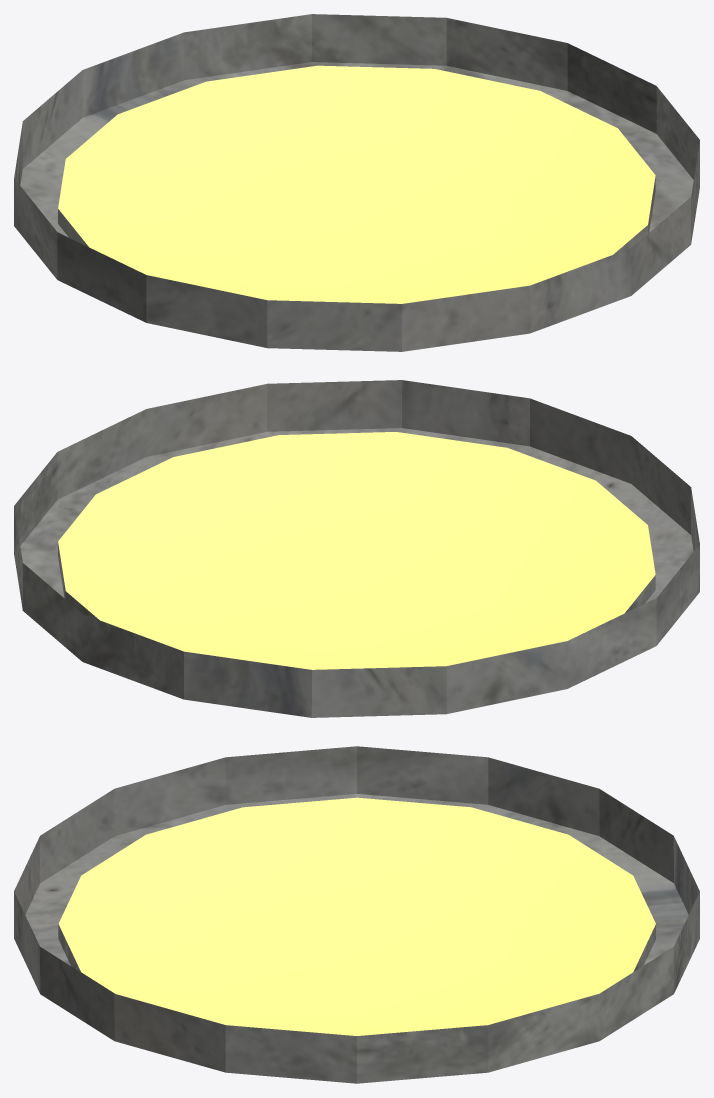
The model's file is CeilingLight.fbx.
The picture shows the model from 3 angles, top to bottom: view 1: azimuth 30°, elevation 25°; view 2: azimuth 150°, elevation 25°; view 3: azimuth 270°, elevation 25°; orthographic projection.
Visible parts, largest first — view 1: Circle; view 2: Circle; view 3: Circle.
Boxes of the visible parts, x1=… form: Circle: x1=14, y1=14, x2=699, y2=351; Circle: x1=14, y1=380, x2=699, y2=717; Circle: x1=14, y1=746, x2=699, y2=1083.
Bounding box in the file's own units: 200 × 23.07 × 200.
